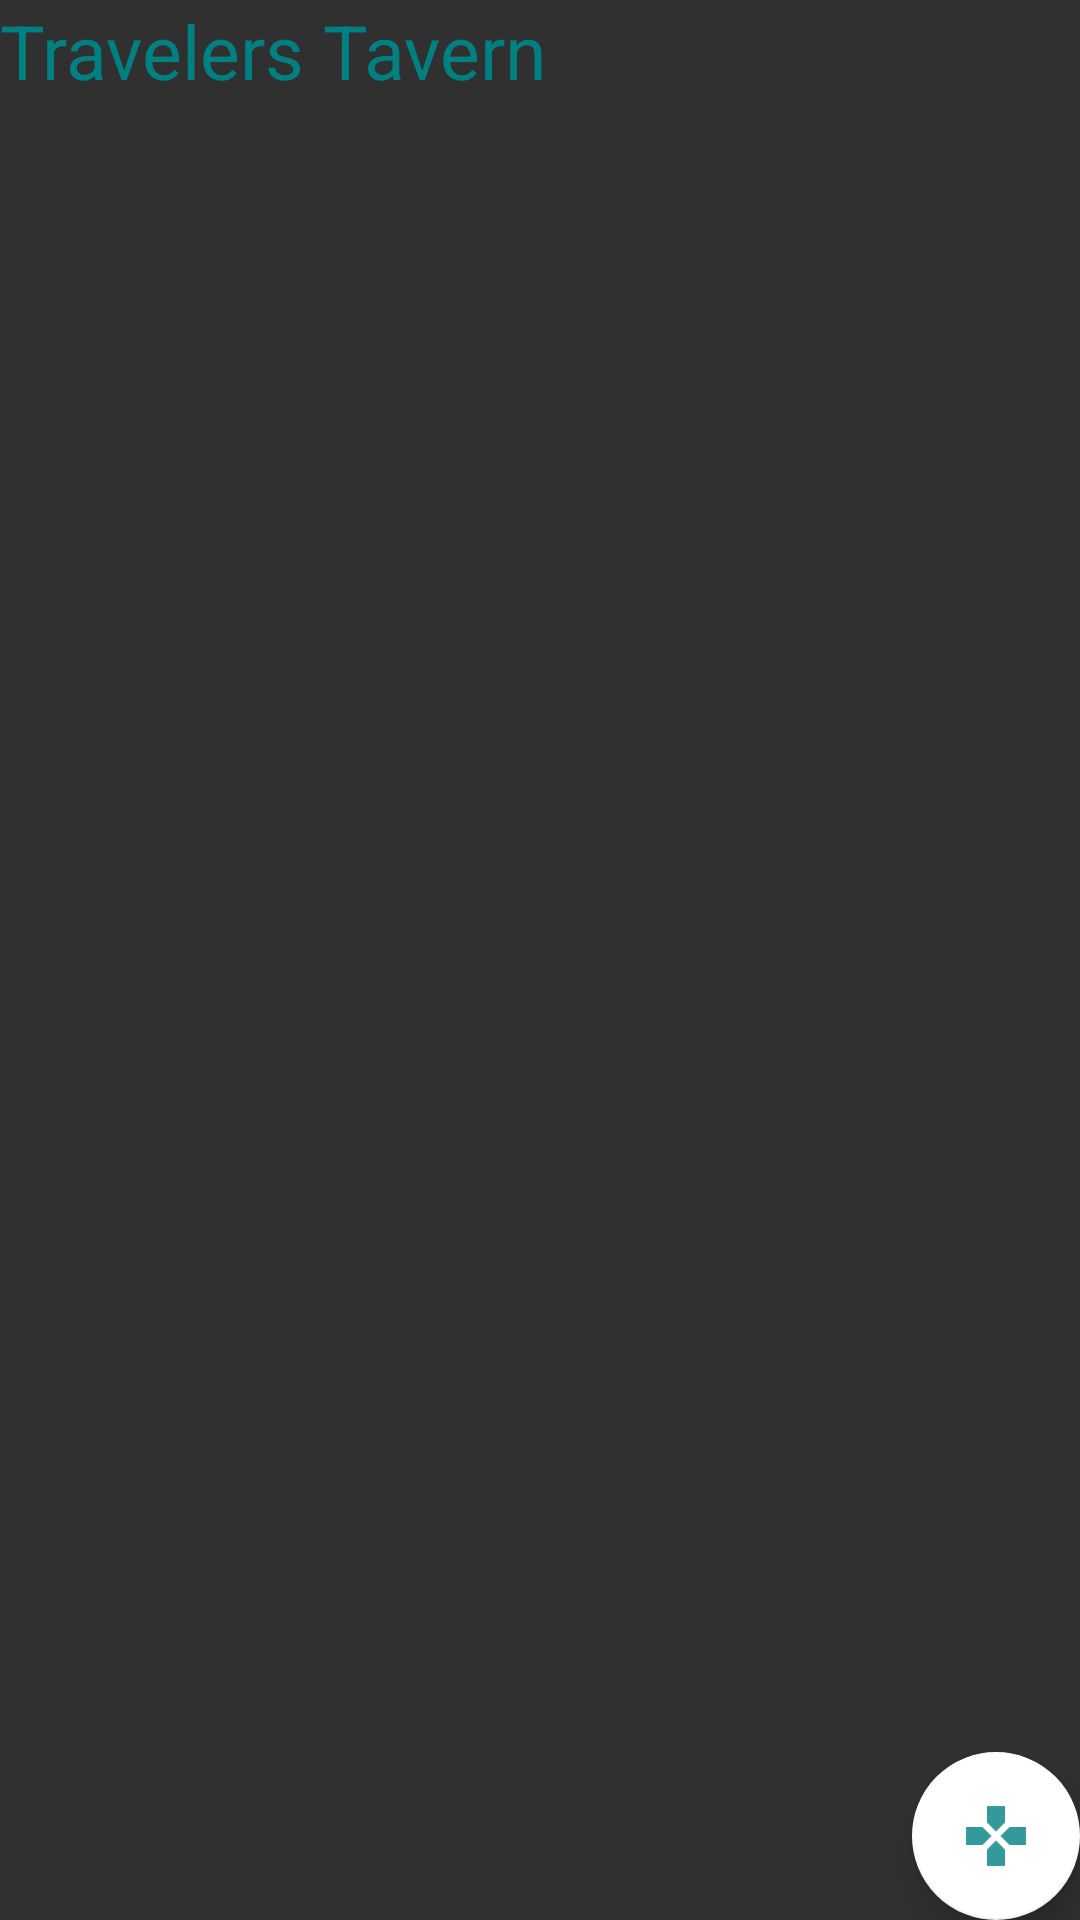

Icons on this 1080w x 1920h Android screen, each with its box as bbox=[x1, y1, x2, y2]:
fab add: bbox=[912, 1752, 1080, 1920]
